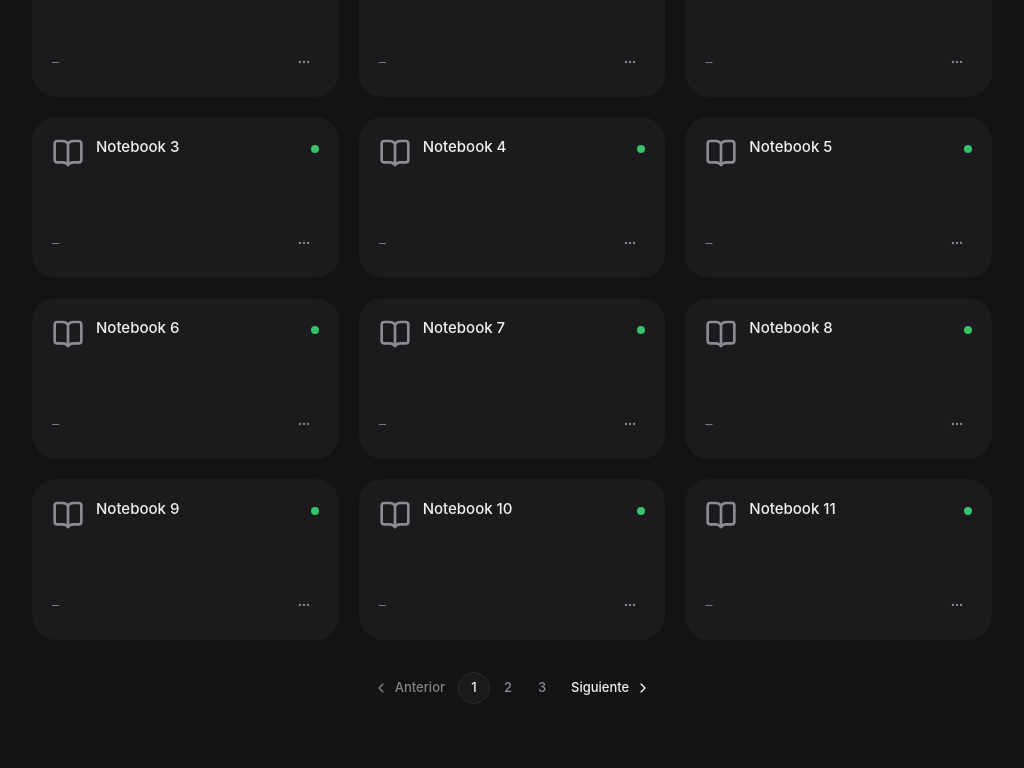
Test: la página trae 12 filas y Siguiente pide la que sigue
(page scrolled)
Expected: the text "Notebook 12" is not shown
Click the link with aria-label "Go to next page" at (611, 688), box [571,679,651,696]
(page scrolled)
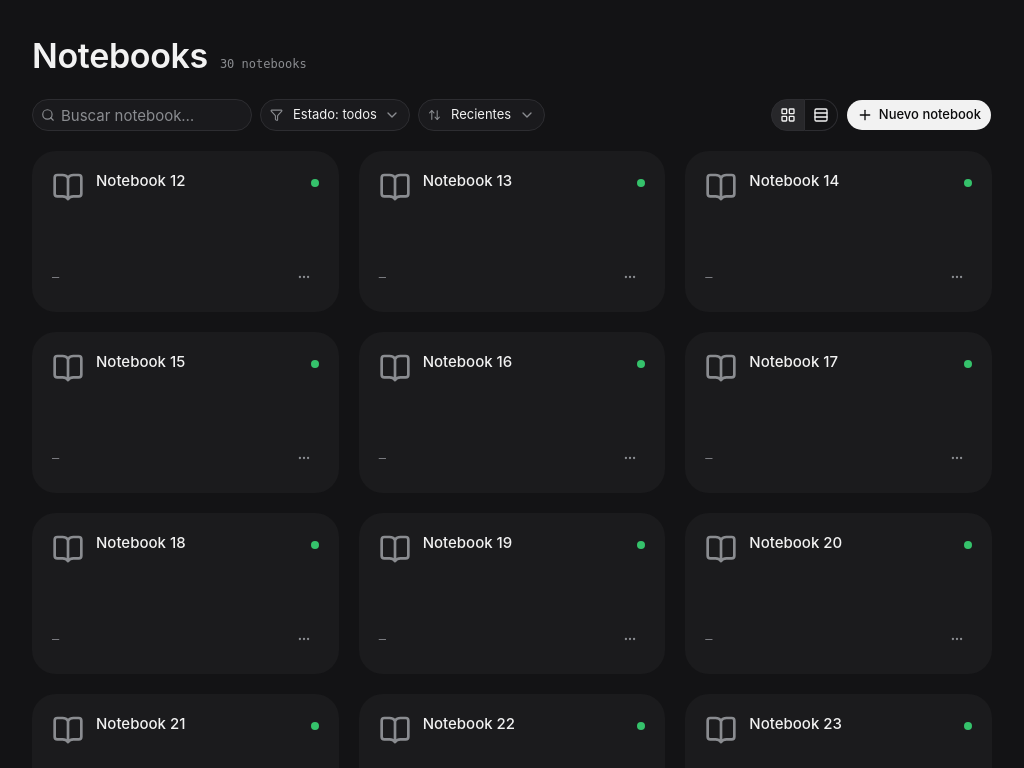
Expected: the text "Notebook 12" is shown, [96,171,185,190]
